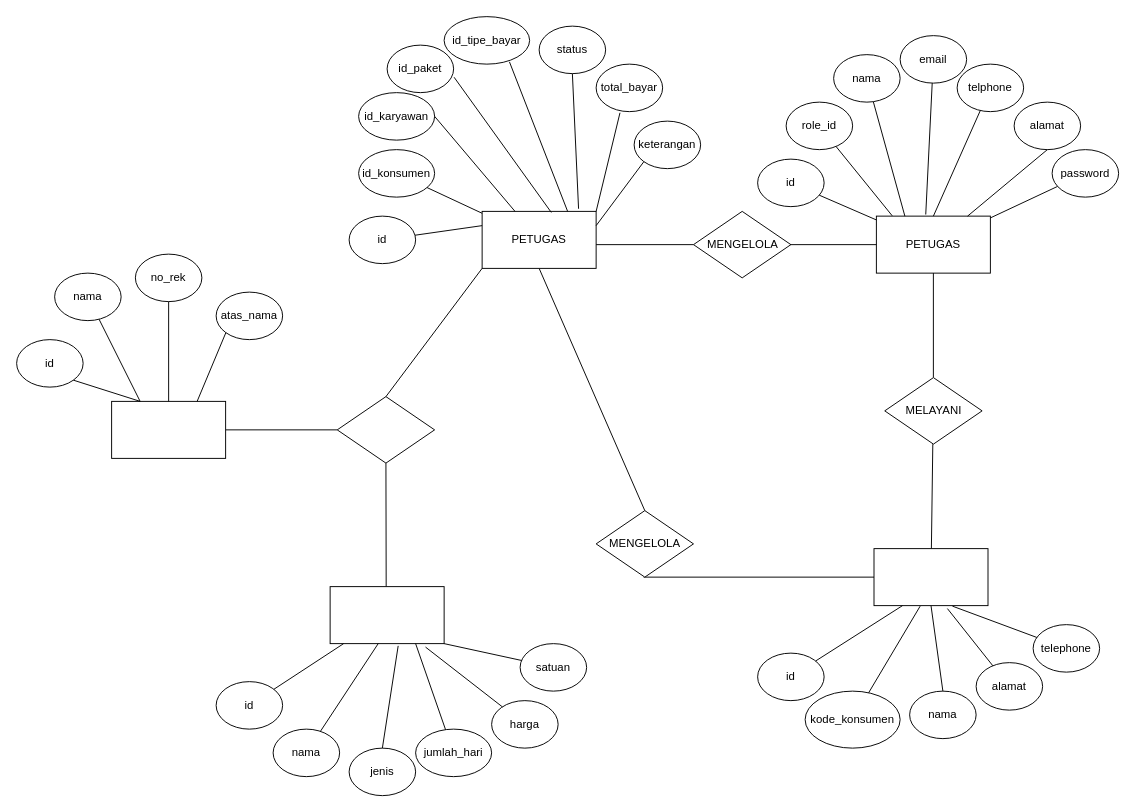
This 1135x812 diagram has some shape labels left out. Each missing label, with the box of its shape:
KONSUMEN: (873, 548, 988, 606)
MEMILIKI: (336, 396, 435, 463)
PAKET: (329, 586, 444, 644)
TIPE BAYAR: (111, 400, 226, 458)
